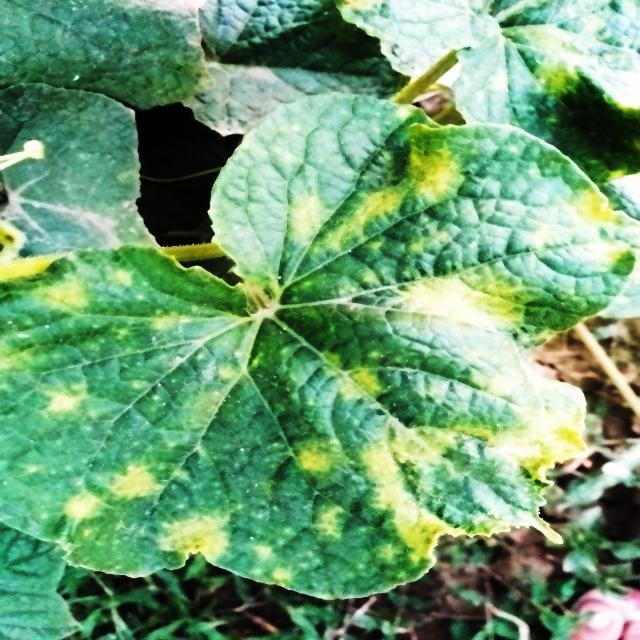Downy-Mildew: (0, 97, 640, 602)
